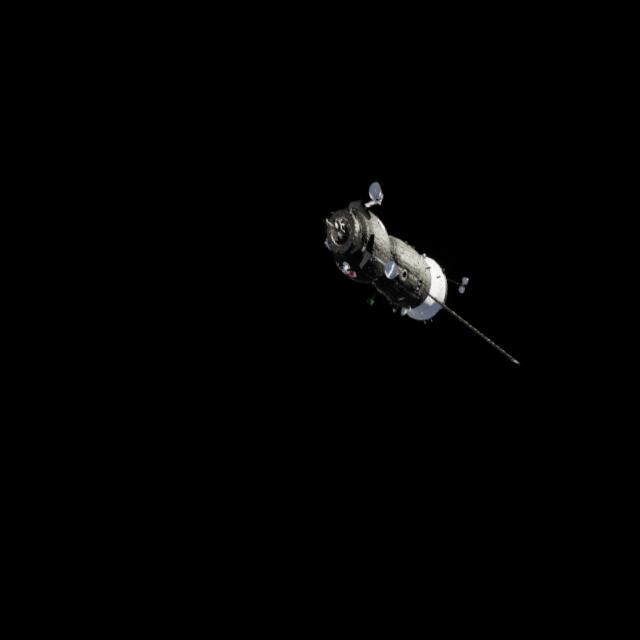Satellites revolving around earth: (311, 156, 522, 404)
